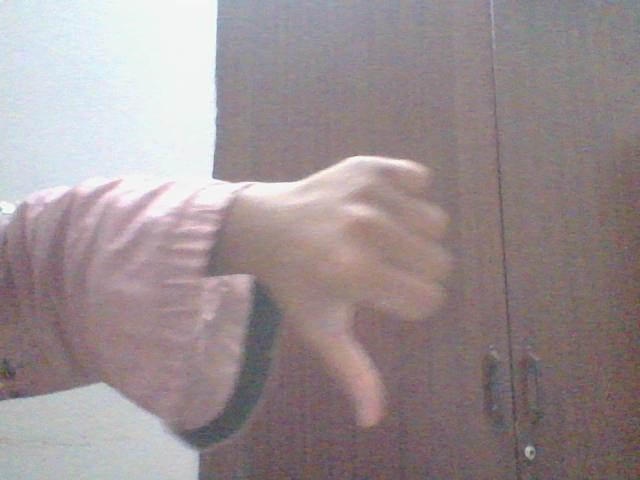thumbs-down: (275, 156, 456, 440)
